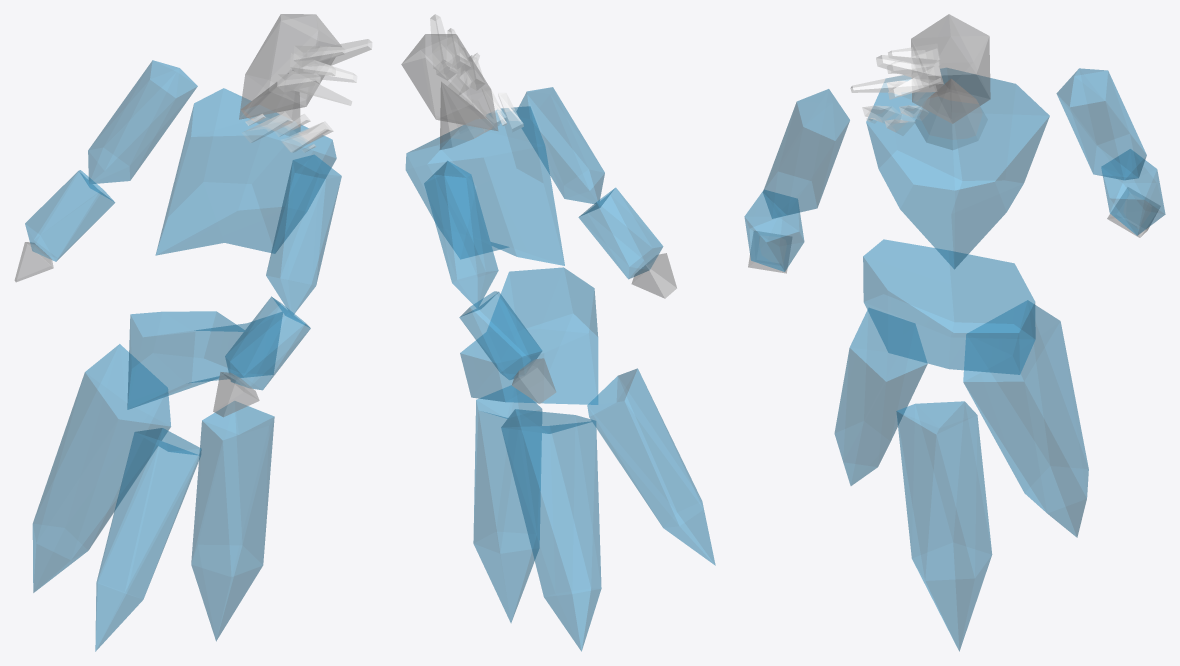
File: ghostChargingLunge17.obj
The picture shows the model from 3 angles, left to right: view 1: azimuth 30°, elevation 25°; view 2: azimuth 150°, elevation 25°; view 3: azimuth 270°, elevation 25°; orthographic projection. The views are drawn at different scales.
Parts seen in each view (by area): view 1: Cube.001_Cube.006, Icosphere.017, Icosphere.016, Icosphere.015, Cube_Cube.006, Icosphere.005_Icosphere.005, Icosphere.007_Icosphere.005, Icosphere.003_Icosphere.006, Icosphere.006_Icosphere.005, Icosphere.008_Icosphere.005, Cone_Cone.006, Cube.002_Cube.006 (+8 smaller); view 2: Cube.001_Cube.006, Icosphere.017, Cube_Cube.006, Icosphere.016, Icosphere.015, Icosphere.007_Icosphere.005, Icosphere.003_Icosphere.006, Icosphere.005_Icosphere.005, Icosphere.006_Icosphere.005, Icosphere.008_Icosphere.005, Cone_Cone.006, Cube.002_Cube.006 (+4 smaller); view 3: Cube.001_Cube.006, Cube_Cube.006, Icosphere.017, Icosphere.016, Icosphere.015, Icosphere.005_Icosphere.005, Icosphere.003_Icosphere.006, Icosphere.007_Icosphere.005, Icosphere.008_Icosphere.005, Icosphere.006_Icosphere.005, Cone_Cone.006, Cube.003_Cube.006 (+4 smaller).
Boxes of the visible parts, left/top/right/bottom form: Cube.001_Cube.006: left=155, top=88, right=336, bottom=255; Icosphere.017: left=32, top=344, right=170, bottom=592; Icosphere.016: left=191, top=401, right=274, bottom=641; Icosphere.015: left=95, top=428, right=201, bottom=651; Cube_Cube.006: left=127, top=311, right=282, bottom=409; Icosphere.005_Icosphere.005: left=266, top=154, right=341, bottom=316; Icosphere.007_Icosphere.005: left=88, top=60, right=197, bottom=183; Icosphere.003_Icosphere.006: left=239, top=14, right=341, bottom=119; Icosphere.006_Icosphere.005: left=225, top=296, right=310, bottom=390; Icosphere.008_Icosphere.005: left=25, top=170, right=114, bottom=261; Cone_Cone.006: left=241, top=70, right=300, bottom=135; Cube.002_Cube.006: left=213, top=372, right=259, bottom=417; Cube.001_Cube.006: left=405, top=106, right=564, bottom=265; Icosphere.017: left=501, top=409, right=601, bottom=651; Cube_Cube.006: left=460, top=267, right=598, bottom=404; Icosphere.016: left=473, top=385, right=542, bottom=622; Icosphere.015: left=587, top=368, right=715, bottom=565; Icosphere.007_Icosphere.005: left=424, top=161, right=498, bottom=308; Icosphere.003_Icosphere.006: left=401, top=34, right=498, bottom=130; Icosphere.005_Icosphere.005: left=516, top=87, right=604, bottom=204; Icosphere.006_Icosphere.005: left=578, top=187, right=663, bottom=279; Icosphere.008_Icosphere.005: left=459, top=291, right=542, bottom=379; Cone_Cone.006: left=440, top=82, right=491, bottom=149; Cube.002_Cube.006: left=631, top=253, right=676, bottom=298; Cube.001_Cube.006: left=866, top=68, right=1049, bottom=269; Cube_Cube.006: left=863, top=239, right=1035, bottom=374; Icosphere.017: left=963, top=300, right=1088, bottom=537; Icosphere.016: left=896, top=401, right=992, bottom=651; Icosphere.015: left=834, top=308, right=927, bottom=485; Icosphere.005_Icosphere.005: left=763, top=89, right=849, bottom=218; Icosphere.003_Icosphere.006: left=911, top=14, right=990, bottom=123; Icosphere.007_Icosphere.005: left=1056, top=68, right=1146, bottom=180; Icosphere.008_Icosphere.005: left=1101, top=149, right=1165, bottom=235; Icosphere.006_Icosphere.005: left=744, top=190, right=804, bottom=271; Cone_Cone.006: left=914, top=79, right=987, bottom=149; Cube.003_Cube.006: left=1107, top=187, right=1160, bottom=237.
Bounding box in the file's own units: 24.52 × 48.94 × 27.87.
